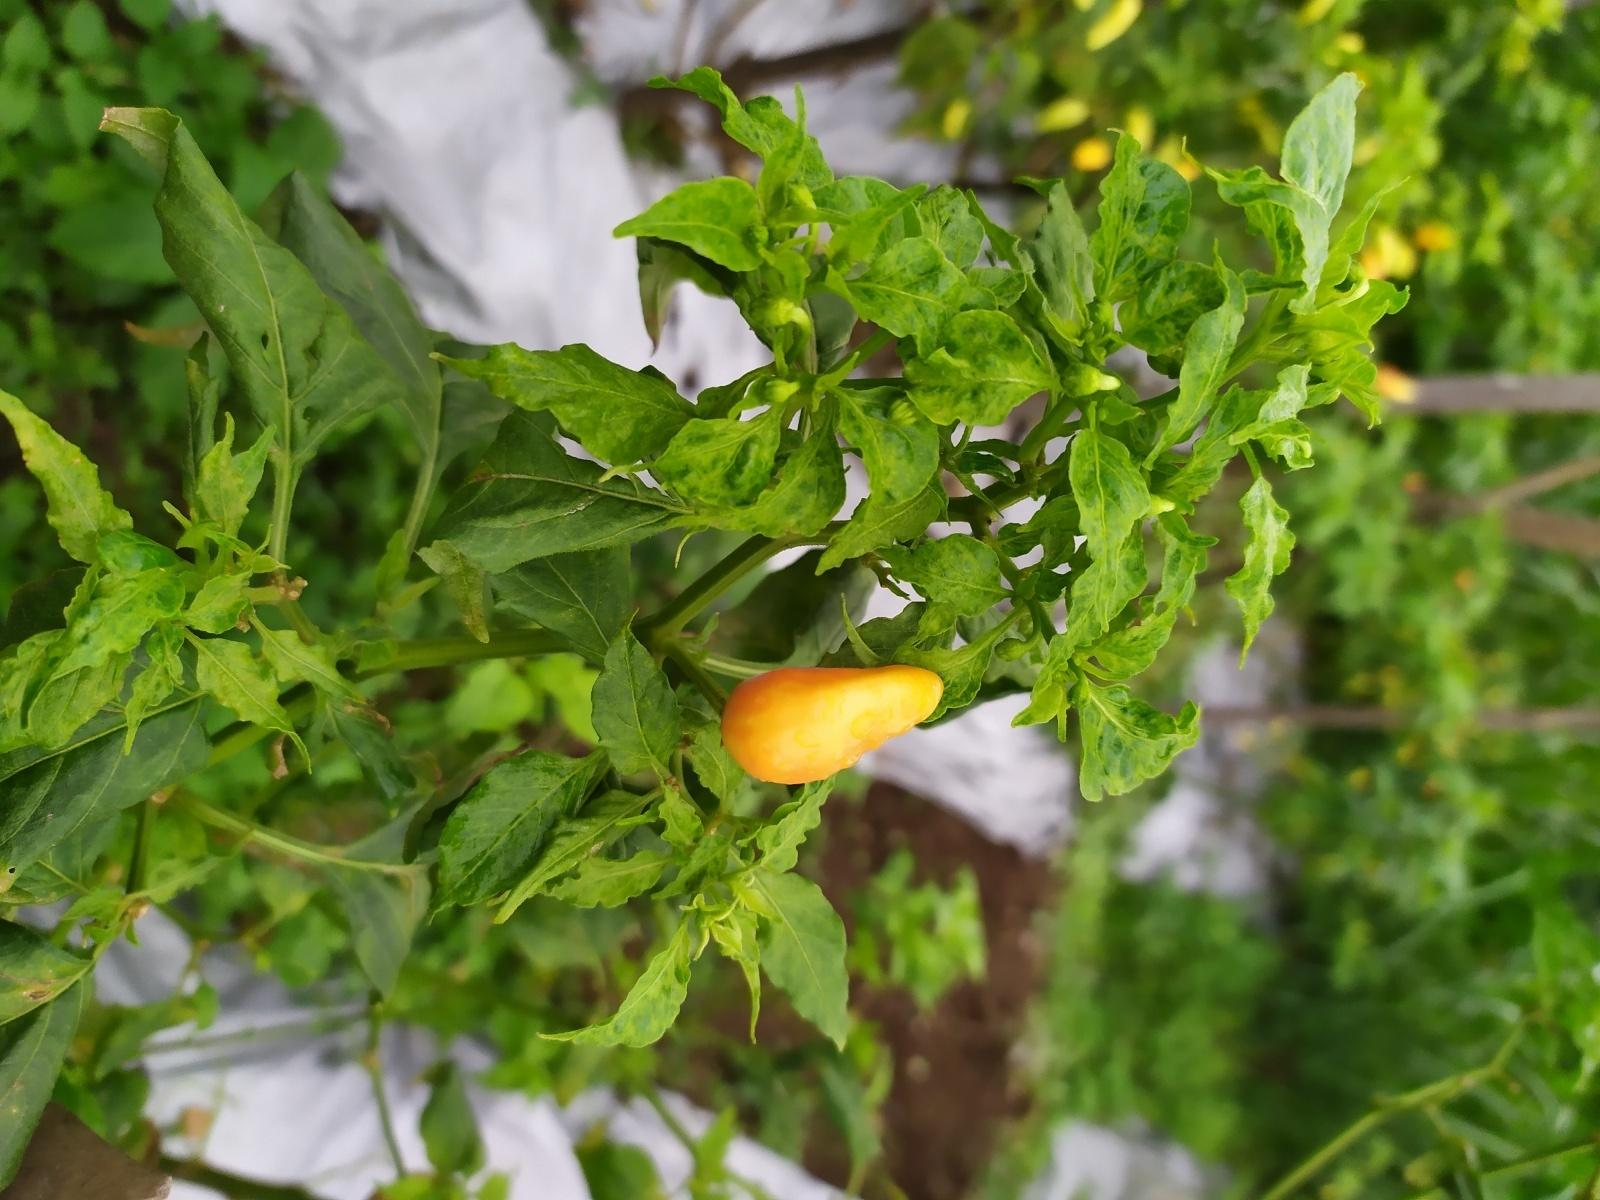cabai_normal: (718, 664, 946, 784)
